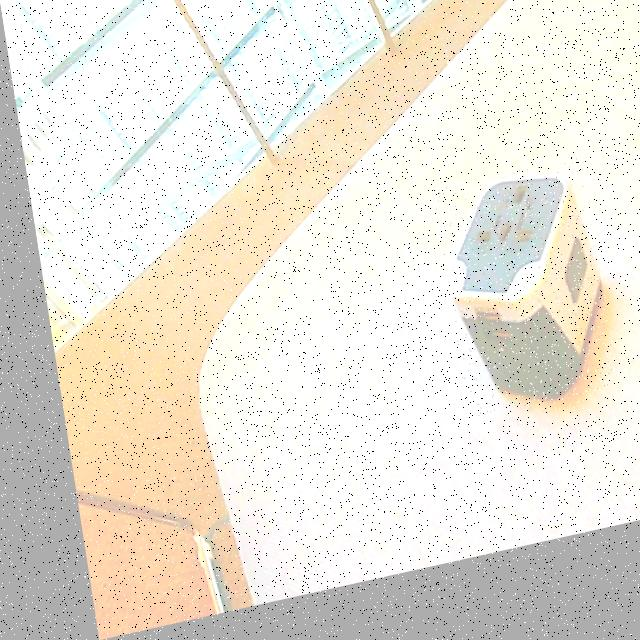adapter: (423, 181, 601, 436)
